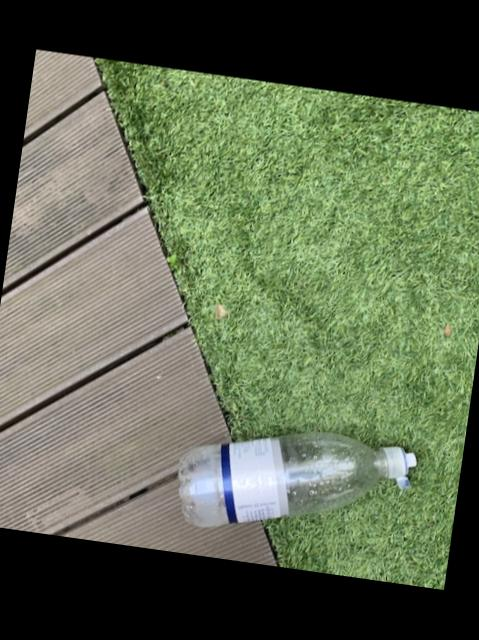plastic: (176, 431, 414, 526)
